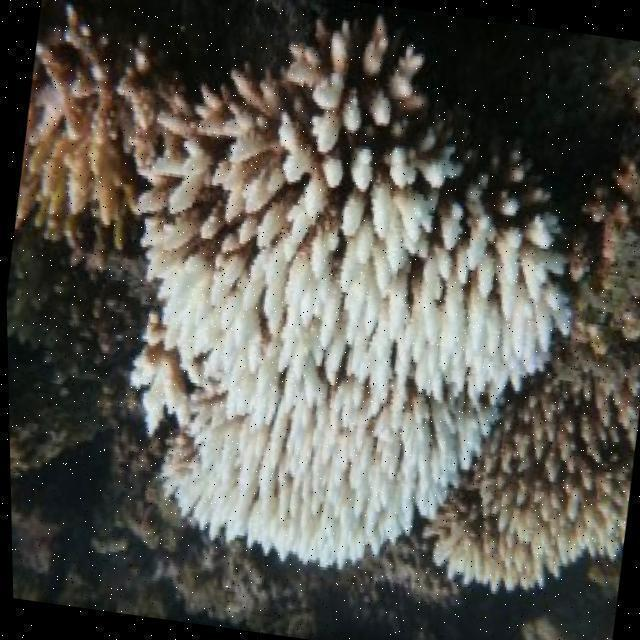Bleached Coral: (99, 0, 626, 624)
